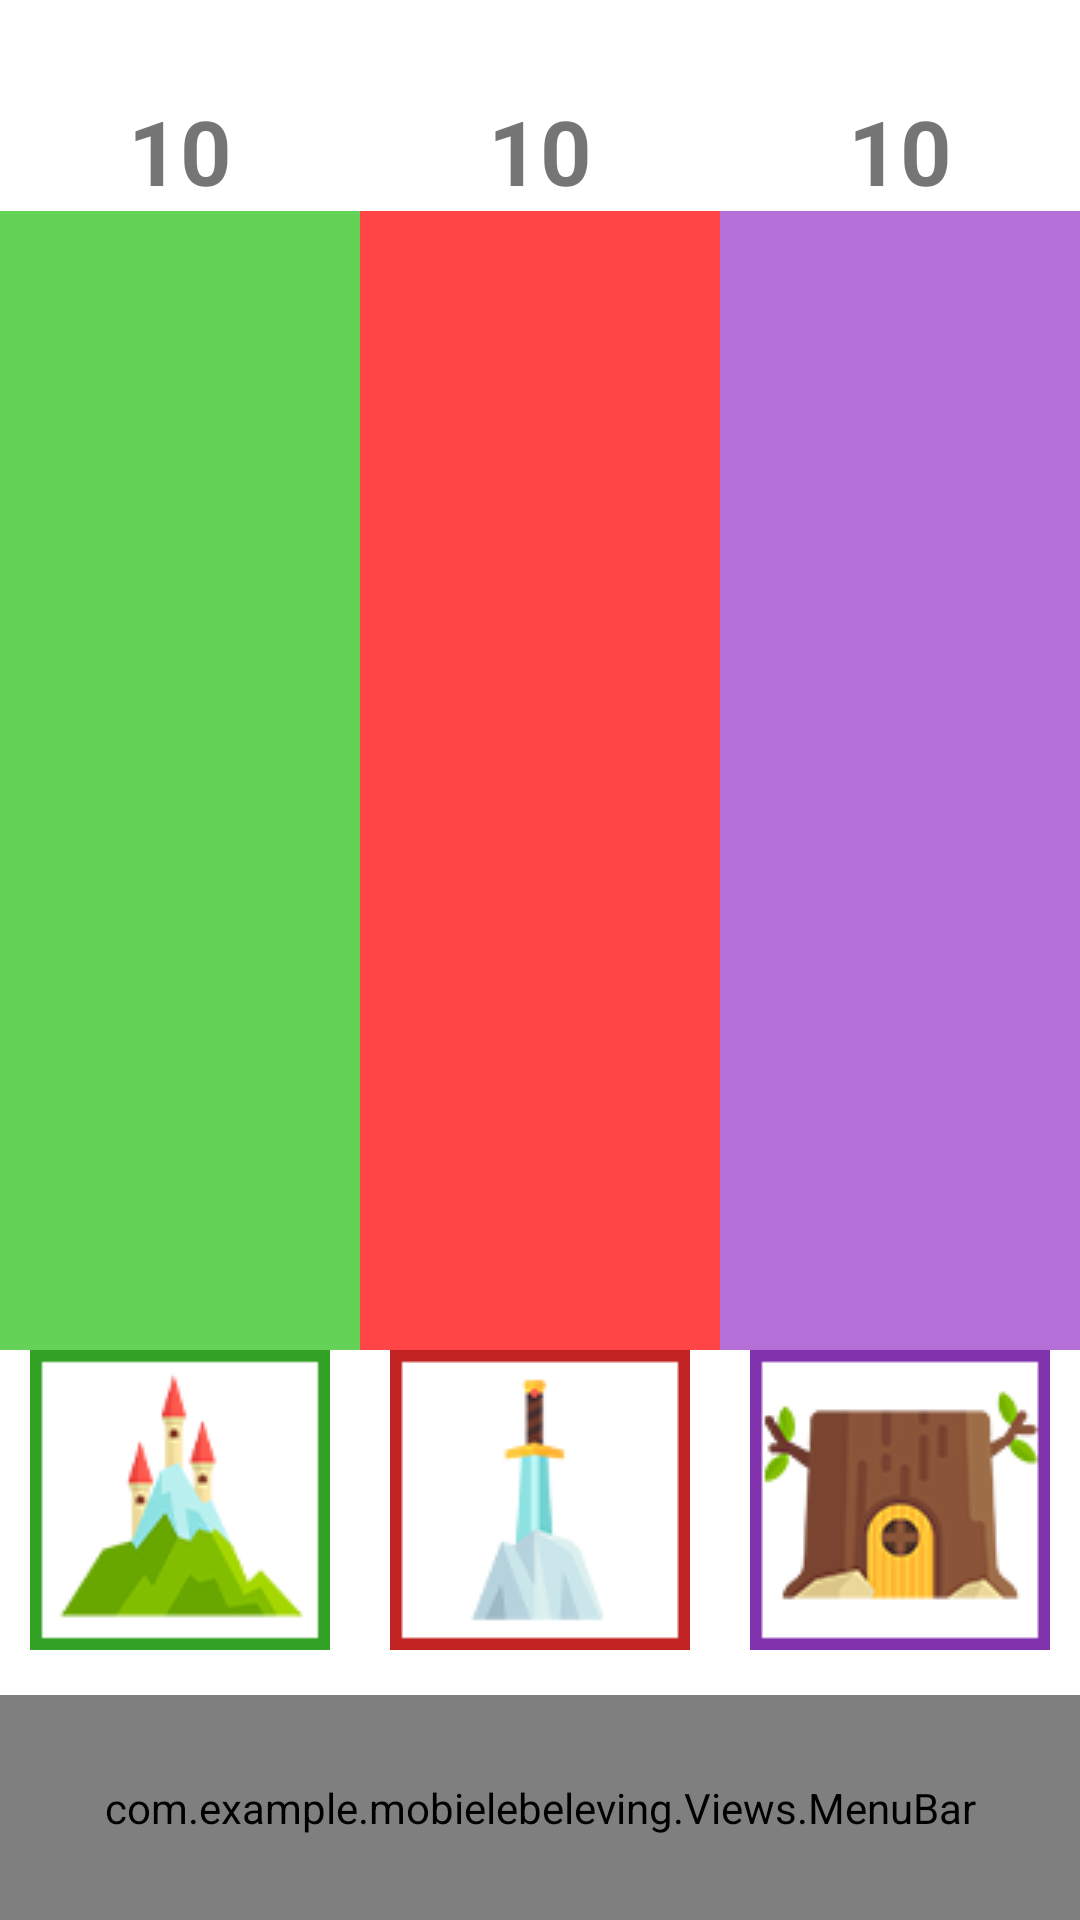

Point at icon controls on the screen. Image size 1080x1920, points as [x,y].
fabel: [900,1500]
